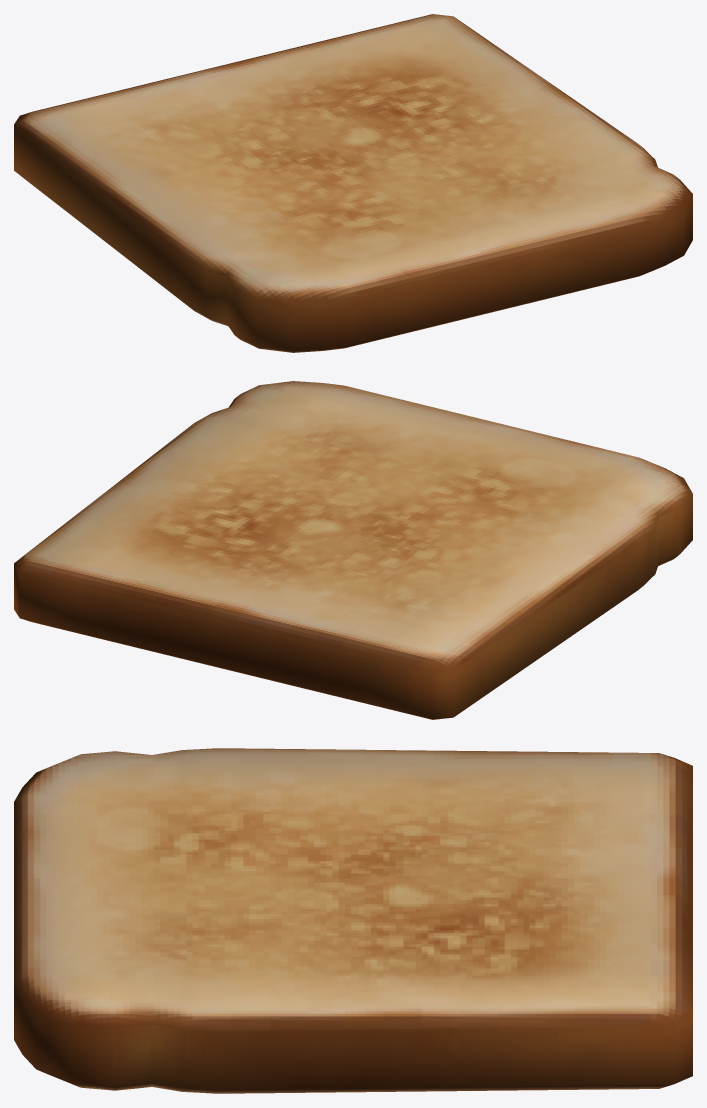
Rendered from ref_bbqtoast.glb.
The picture shows the model from 3 angles, top to bottom: view 1: azimuth 30°, elevation 25°; view 2: azimuth 150°, elevation 25°; view 3: azimuth 270°, elevation 25°; orthographic projection. The views are drawn at different scales.
Parts seen in each view (by area): view 1: ref_bbqtoast; view 2: ref_bbqtoast; view 3: ref_bbqtoast.
Boxes of the visible parts, <box> form: ref_bbqtoast: <box>14,14,692,352</box>; ref_bbqtoast: <box>14,381,692,719</box>; ref_bbqtoast: <box>14,748,692,1093</box>.
Size of the model in its own units: 0.9714 by 0.1214 by 1.
Materials: 1 (1 with a texture image).
